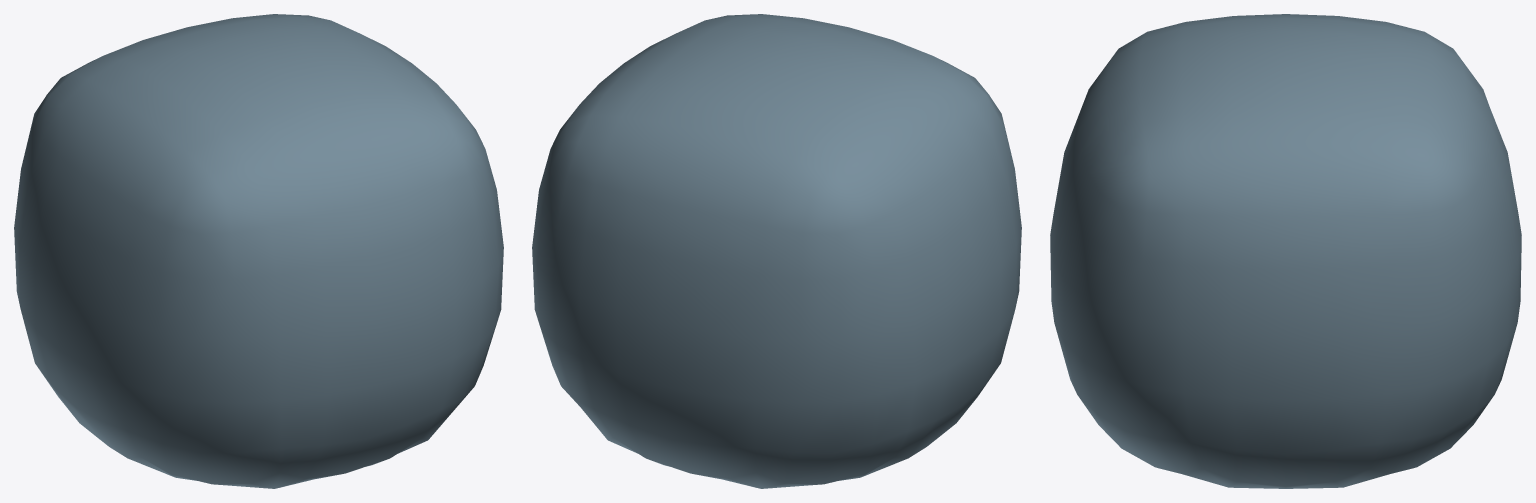
Rendered from Pouf1_10.fbx.
3 renders of one model, left to right at view 1: azimuth 30°, elevation 25°; view 2: azimuth 150°, elevation 25°; view 3: azimuth 270°, elevation 25°, orthographic.
Visible parts, largest first — view 1: pCube2904; view 2: pCube2904; view 3: pCube2904.
Boxes of the visible parts, left/top/right/bottom form: pCube2904: left=14, top=14, right=503, bottom=488; pCube2904: left=532, top=14, right=1021, bottom=488; pCube2904: left=1050, top=14, right=1521, bottom=488.
Bounding box in the file's own units: 33.21 × 31.87 × 33.2.
